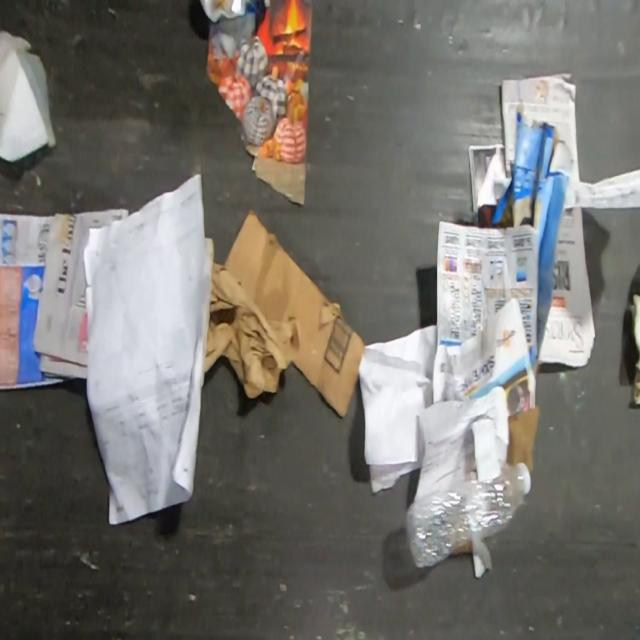cardboard: (222, 206, 366, 419), (490, 112, 574, 358), (0, 27, 58, 164), (507, 402, 540, 474), (626, 291, 640, 406)
rigid_plastic: (404, 456, 532, 569)
soft_plastic: (199, 0, 267, 29)
